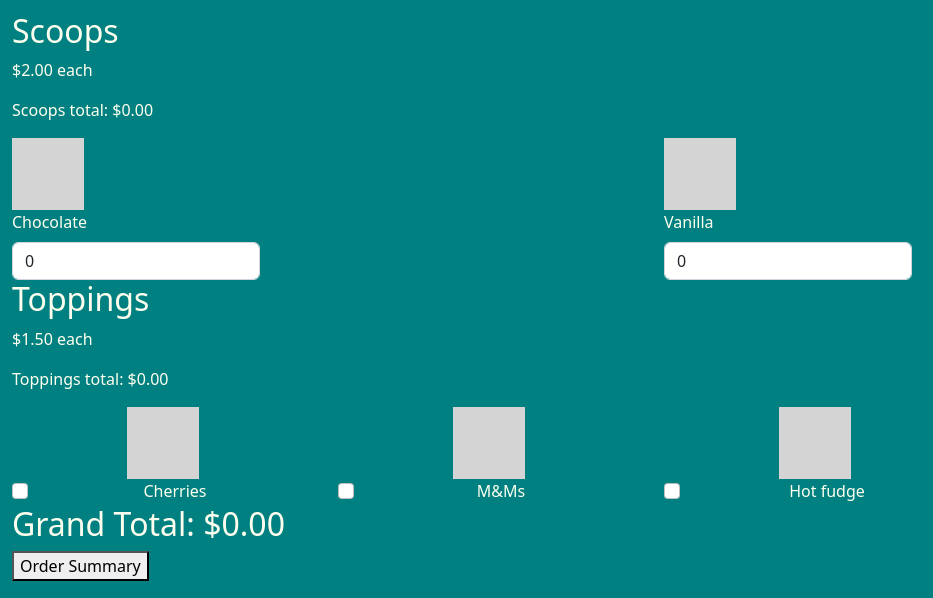
Test: grand total › grand total updates properly if an item is removed
Type "2" into the number field labelled "Vanilla" at (788, 261), box [664,242,912,280]
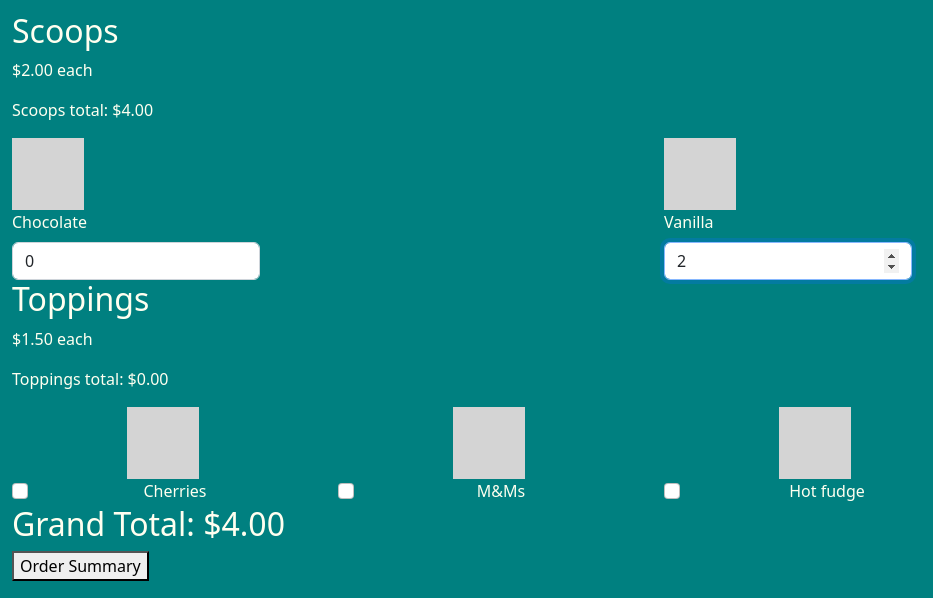
Click the checkbox labelled "M&Ms" at (346, 491), box [338,483,354,499]
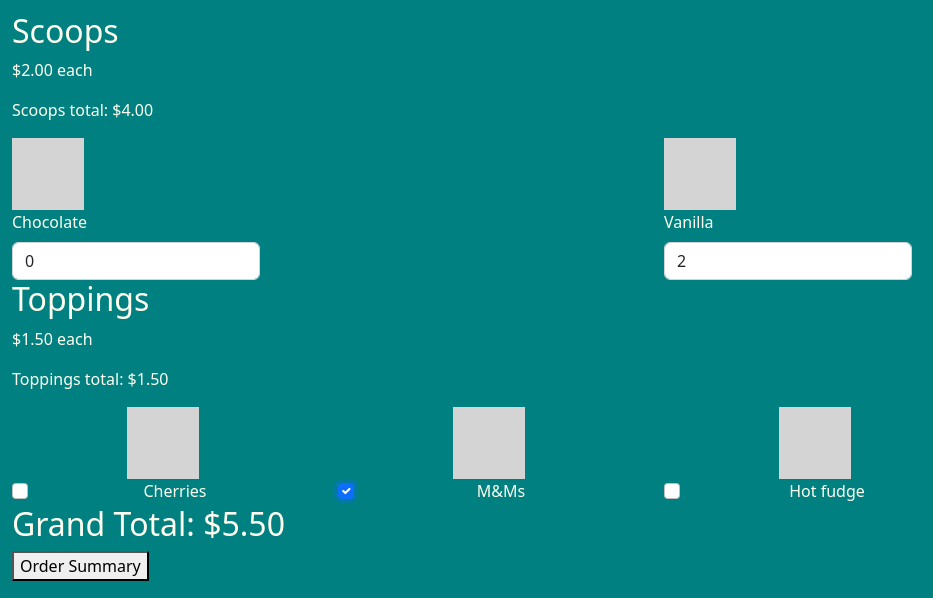
Type "1" into the number field labelled "Vanilla" at (788, 261), box [664,242,912,280]
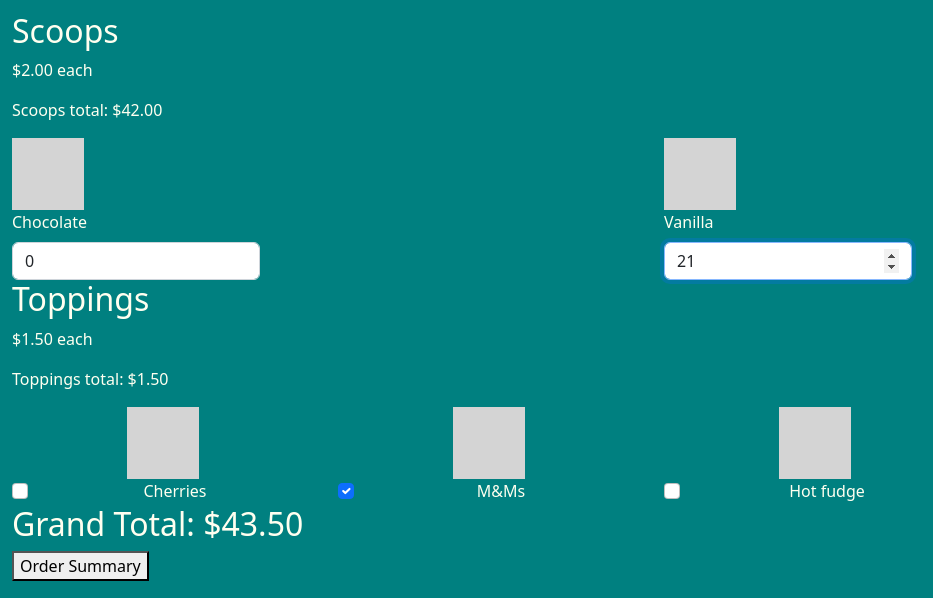
Now the heading "Grand Total: $43.50" is shown, box [12,502,303,545]
Click the checkbox labelled "M&Ms" at (346, 491), box [338,483,354,499]
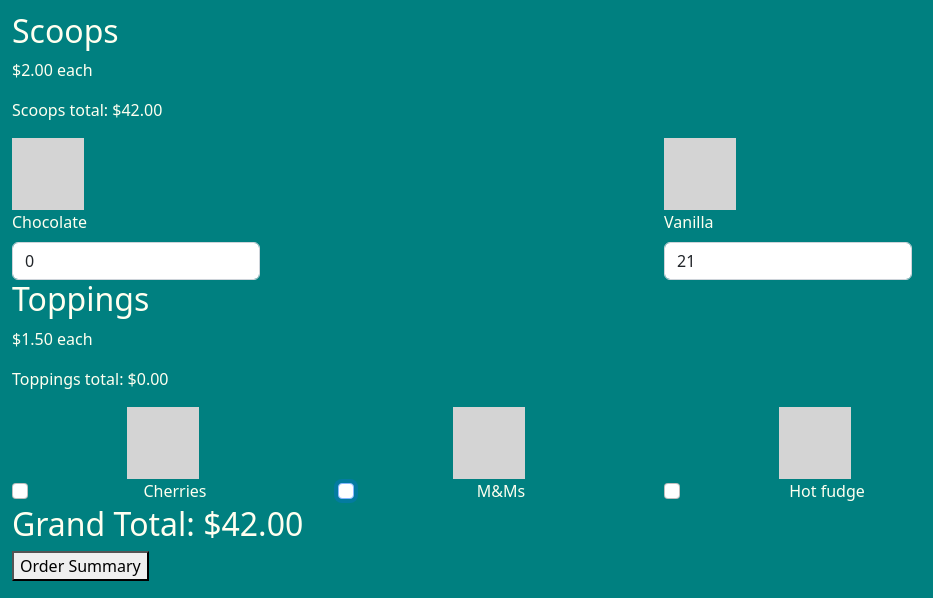
Now the heading "Grand Total: $42.00" is shown, box [12,502,303,545]
